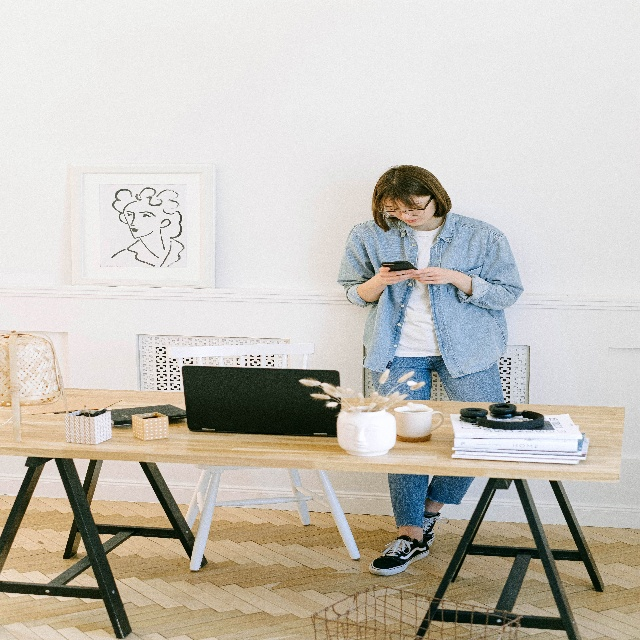Gafas: (379, 194, 434, 216)
Sin_guantes: (413, 265, 449, 287), (379, 269, 413, 288)
